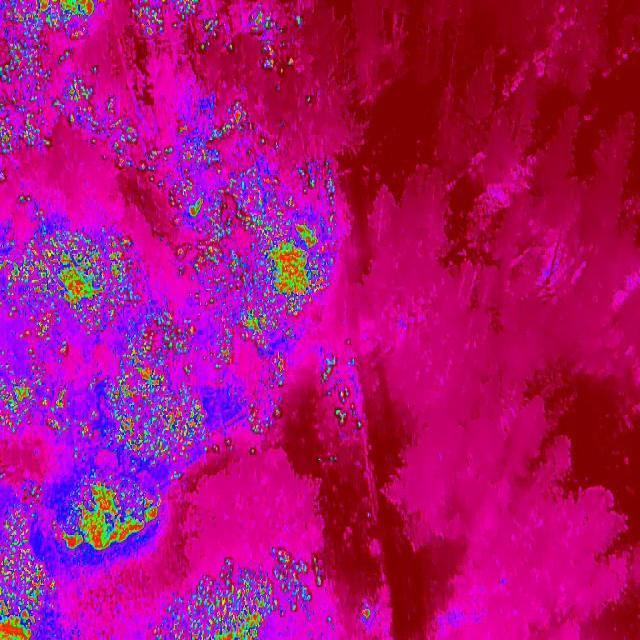fire: (230, 160, 339, 348), (0, 224, 134, 356), (152, 544, 309, 638), (0, 77, 143, 175), (109, 356, 210, 466), (140, 126, 230, 236), (59, 476, 159, 555), (0, 362, 74, 440), (0, 545, 56, 639), (244, 3, 305, 75), (172, 238, 234, 300), (0, 29, 76, 79), (318, 348, 362, 434), (243, 353, 289, 435), (134, 304, 198, 358), (207, 100, 269, 155), (0, 482, 45, 550), (2, 0, 94, 30), (132, 0, 199, 36), (210, 323, 237, 376), (200, 16, 234, 56), (212, 438, 260, 458), (78, 408, 98, 442), (311, 551, 325, 588), (357, 604, 374, 624), (16, 191, 34, 207)
